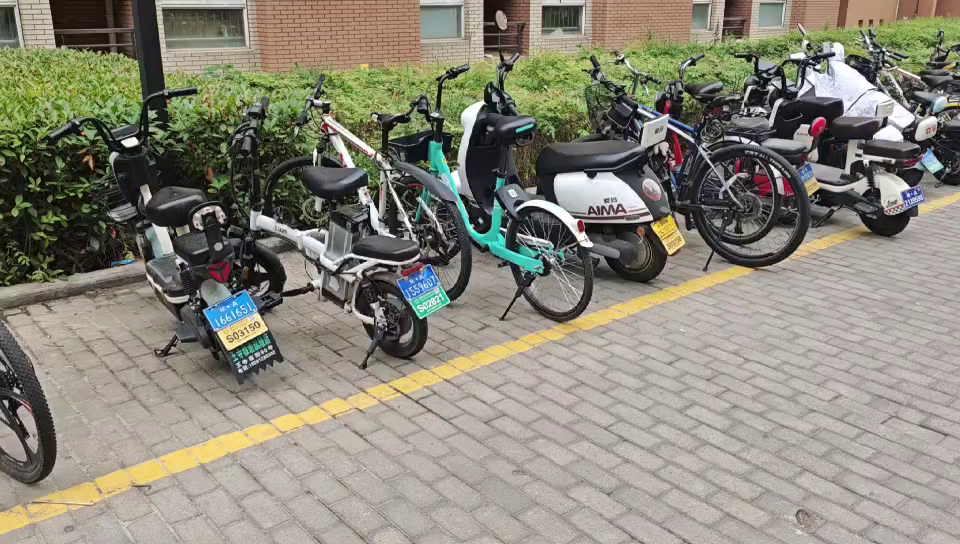others: (62, 102, 262, 364), (581, 45, 809, 273), (689, 29, 923, 237), (232, 100, 412, 368)
shared_bike_qingcong: (387, 64, 586, 325)
